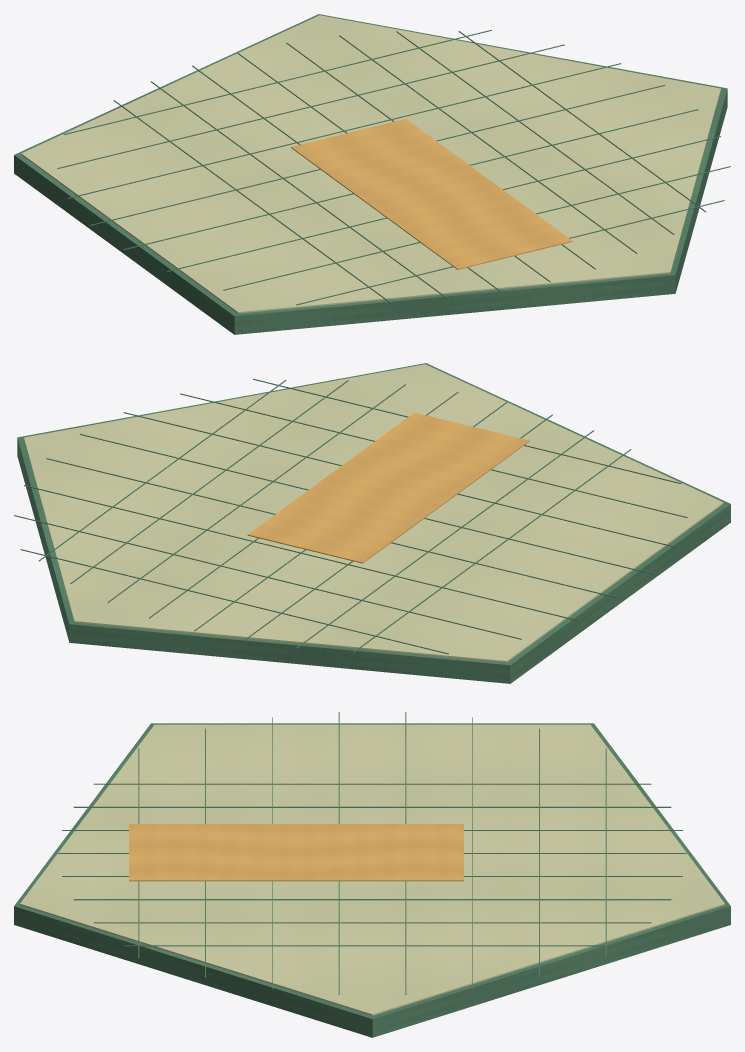
File: atlas100-s003-a07.lod1.glb
3 views of the same model, one above another, from view 1: azimuth 30°, elevation 25°; view 2: azimuth 150°, elevation 25°; view 3: azimuth 270°, elevation 25° (orthographic).
Visible parts, largest first — view 1: atlas100-s003-a07:part-001, atlas100-s003-a07:part-021, atlas100-s003-a07:part-000, atlas100-s003-a07:part-015, atlas100-s003-a07:part-014, atlas100-s003-a07:part-017, atlas100-s003-a07:part-016, atlas100-s003-a07:part-018, atlas100-s003-a07:part-013, atlas100-s003-a07:part-019, atlas100-s003-a07:part-005, atlas100-s003-a07:part-009 (+4 smaller); view 2: atlas100-s003-a07:part-001, atlas100-s003-a07:part-021, atlas100-s003-a07:part-000, atlas100-s003-a07:part-015, atlas100-s003-a07:part-014, atlas100-s003-a07:part-016, atlas100-s003-a07:part-017, atlas100-s003-a07:part-018, atlas100-s003-a07:part-013, atlas100-s003-a07:part-019, atlas100-s003-a07:part-005, atlas100-s003-a07:part-009 (+4 smaller); view 3: atlas100-s003-a07:part-001, atlas100-s003-a07:part-021, atlas100-s003-a07:part-000, atlas100-s003-a07:part-005, atlas100-s003-a07:part-009, atlas100-s003-a07:part-004, atlas100-s003-a07:part-010, atlas100-s003-a07:part-011.
Boxes of the visible parts, x1=… form: atlas100-s003-a07:part-001: x1=21, y1=15, x2=720, y2=313; atlas100-s003-a07:part-021: x1=291, y1=119, x2=572, y2=269; atlas100-s003-a07:part-000: x1=14, y1=14, x2=727, y2=334; atlas100-s003-a07:part-015: x1=67, y1=63, x2=621, y2=198; atlas100-s003-a07:part-014: x1=57, y1=44, x2=564, y2=168; atlas100-s003-a07:part-017: x1=122, y1=109, x2=698, y2=250; atlas100-s003-a07:part-016: x1=89, y1=85, x2=665, y2=225; atlas100-s003-a07:part-018: x1=167, y1=136, x2=720, y2=271; atlas100-s003-a07:part-013: x1=63, y1=30, x2=491, y2=134; atlas100-s003-a07:part-019: x1=223, y1=166, x2=730, y2=290; atlas100-s003-a07:part-005: x1=150, y1=81, x2=448, y2=299; atlas100-s003-a07:part-009: x1=339, y1=35, x2=637, y2=253; atlas100-s003-a07:part-001: x1=24, y1=364, x2=723, y2=662; atlas100-s003-a07:part-021: x1=247, y1=412, x2=529, y2=563; atlas100-s003-a07:part-000: x1=17, y1=363, x2=730, y2=683; atlas100-s003-a07:part-015: x1=24, y1=485, x2=577, y2=620; atlas100-s003-a07:part-014: x1=14, y1=515, x2=521, y2=639; atlas100-s003-a07:part-016: x1=46, y1=458, x2=622, y2=599; atlas100-s003-a07:part-017: x1=79, y1=434, x2=655, y2=574; atlas100-s003-a07:part-018: x1=123, y1=412, x2=677, y2=547; atlas100-s003-a07:part-013: x1=20, y1=549, x2=448, y2=654; atlas100-s003-a07:part-019: x1=180, y1=393, x2=687, y2=517; atlas100-s003-a07:part-005: x1=296, y1=430, x2=594, y2=648; atlas100-s003-a07:part-009: x1=107, y1=384, x2=405, y2=602; atlas100-s003-a07:part-001: x1=20, y1=724, x2=724, y2=1015; atlas100-s003-a07:part-021: x1=129, y1=824, x2=463, y2=881; atlas100-s003-a07:part-000: x1=14, y1=723, x2=730, y2=1037; atlas100-s003-a07:part-005: x1=73, y1=806, x2=671, y2=807; atlas100-s003-a07:part-009: x1=73, y1=899, x2=671, y2=900; atlas100-s003-a07:part-004: x1=93, y1=783, x2=651, y2=784; atlas100-s003-a07:part-010: x1=93, y1=922, x2=651, y2=923; atlas100-s003-a07:part-011: x1=124, y1=945, x2=620, y2=946.
Bounding box in the file's own units: 11.87 × 0.404 × 11.81.
3 materials, 3 textured.
